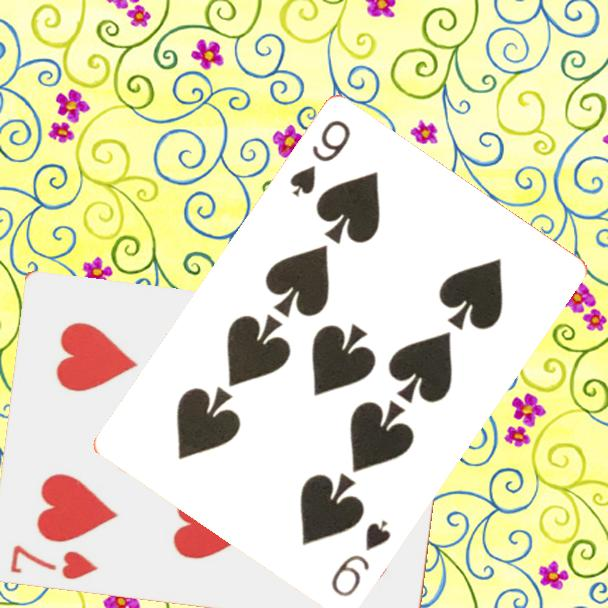h07: (6, 542, 100, 583)
s09: (286, 117, 354, 201), (327, 517, 394, 601)
